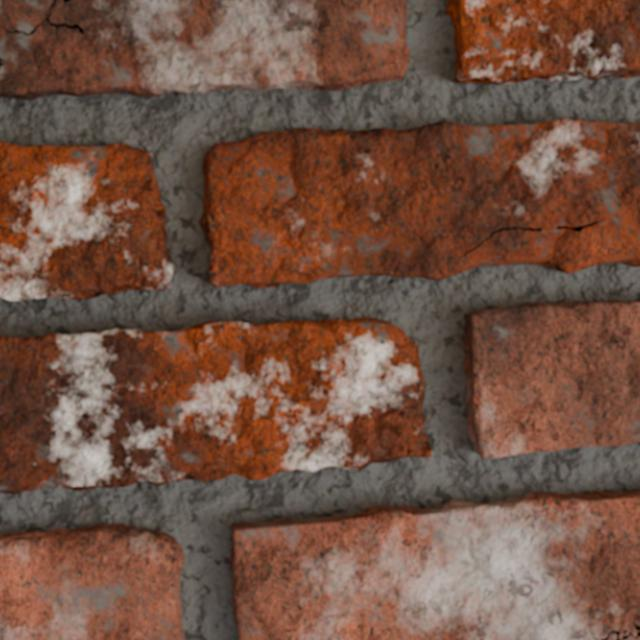brick: (0, 318, 431, 493), (200, 119, 639, 288), (231, 492, 639, 639), (0, 0, 409, 99), (462, 301, 639, 457), (0, 142, 173, 300), (0, 525, 184, 639), (447, 0, 639, 84), (0, 0, 53, 33)
crack: (0, 0, 85, 37), (589, 624, 639, 639), (0, 58, 4, 71), (63, 0, 71, 4)
